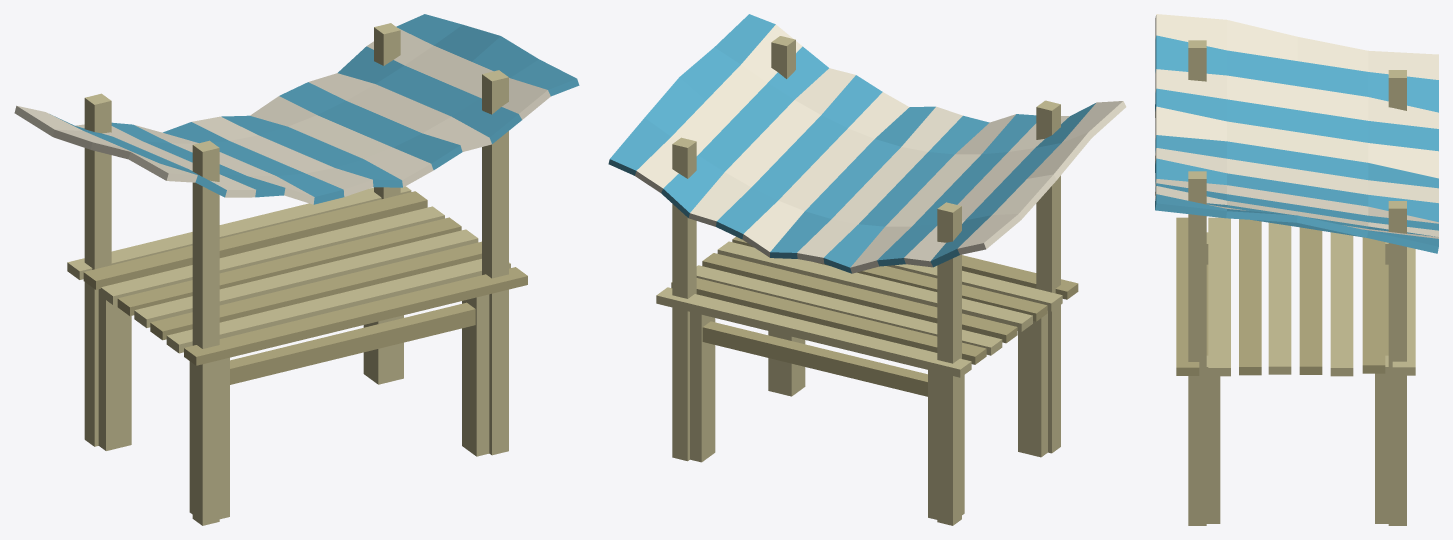
File: stall.glb
The picture shows the model from 3 angles, left to right: view 1: azimuth 30°, elevation 25°; view 2: azimuth 150°, elevation 25°; view 3: azimuth 270°, elevation 25°; orthographic projection. The views are drawn at different scales.
Visible parts, largest first — view 1: stall; view 2: stall; view 3: stall.
Boxes of the visible parts, x1,y1,x2,y2 form: stall: (14,14,579,525); stall: (608,14,1126,525); stall: (1155,14,1438,525).
Size of the model in its own units: 2.44 by 2.12 by 1.56.
